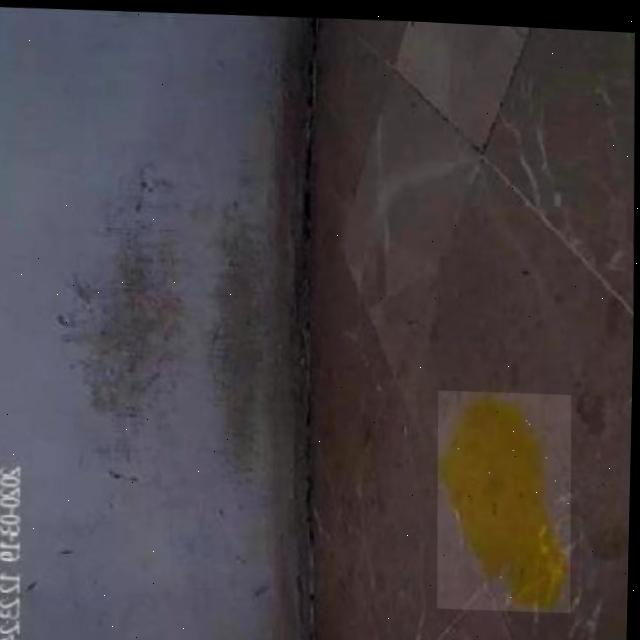spillage: (440, 386, 572, 605)
